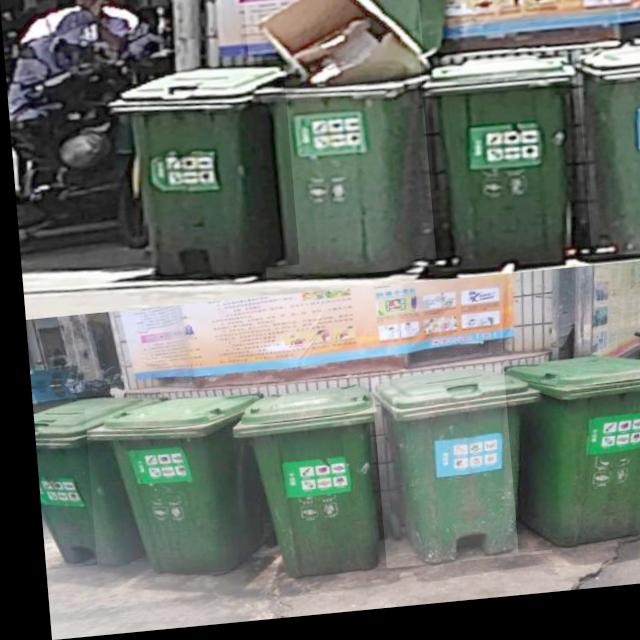garbage_bin: (103, 64, 295, 284), (418, 52, 581, 279), (364, 372, 542, 575), (77, 395, 267, 584), (223, 390, 381, 587), (496, 360, 640, 562), (26, 393, 163, 570), (574, 52, 640, 269)
overflow: (243, 0, 436, 287)
